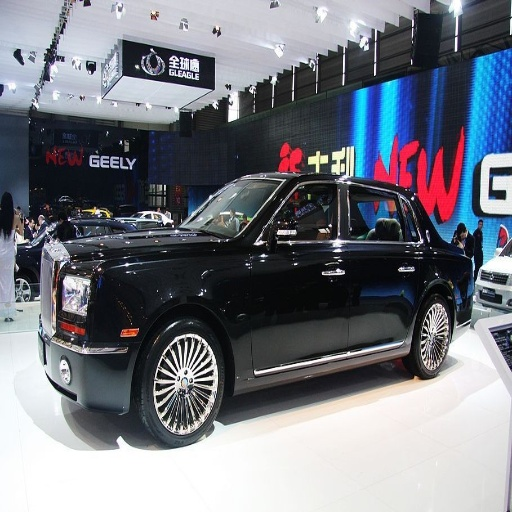back_glass: (226, 180, 290, 220)
trunk: (52, 262, 145, 408)
